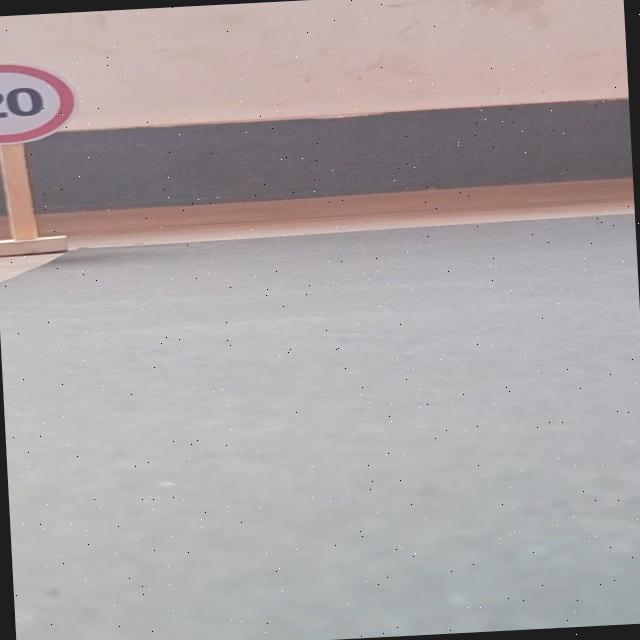Speed20: (0, 57, 90, 148)
